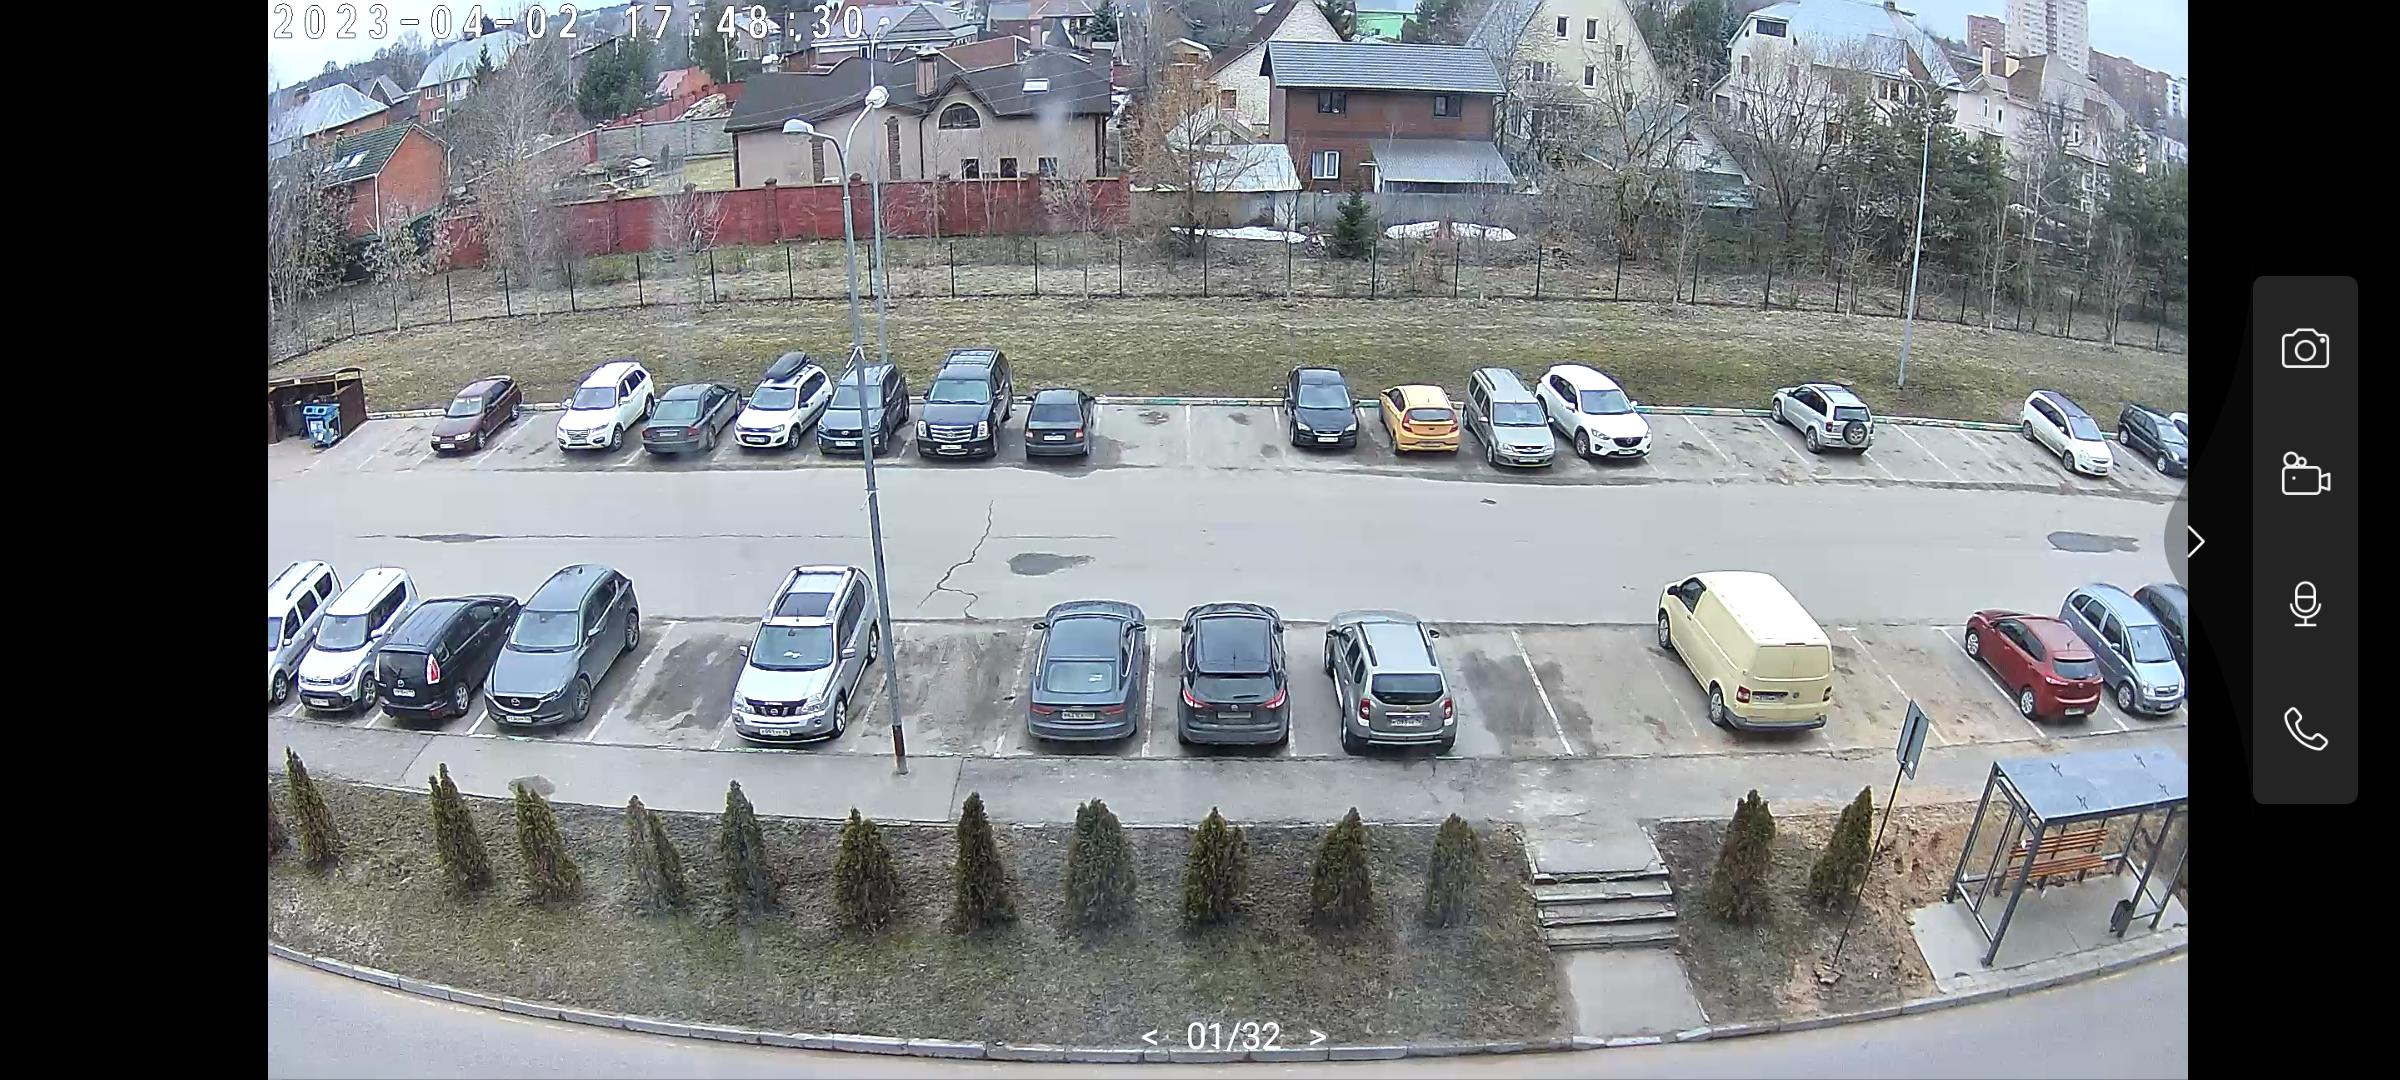empty: (712, 554, 885, 756), (993, 590, 1185, 766), (481, 557, 658, 734), (1652, 575, 1840, 742), (1153, 604, 1316, 763), (1324, 623, 1489, 757), (375, 577, 517, 733), (1959, 607, 2108, 731), (876, 344, 1021, 467), (2065, 580, 2186, 727), (272, 564, 387, 711), (1476, 366, 1615, 477), (719, 356, 853, 460), (1521, 367, 1653, 470), (2011, 392, 2141, 482), (554, 364, 673, 457), (1267, 372, 1379, 459), (407, 378, 522, 462), (1771, 381, 1878, 460), (634, 375, 732, 457), (1009, 379, 1099, 464), (1379, 381, 1469, 460), (2120, 404, 2184, 476)
occupied: (869, 630, 1018, 756), (624, 621, 738, 745), (1443, 635, 1532, 765), (1528, 658, 1671, 737), (1889, 627, 1984, 730), (1812, 627, 1892, 742), (1099, 376, 1180, 476), (1638, 399, 1713, 483), (1149, 408, 1254, 460), (1860, 416, 1932, 490), (1716, 395, 1777, 480), (1981, 396, 2042, 480), (1921, 404, 1987, 476), (507, 393, 560, 467), (2108, 425, 2158, 488), (396, 416, 436, 467), (344, 421, 373, 471)
